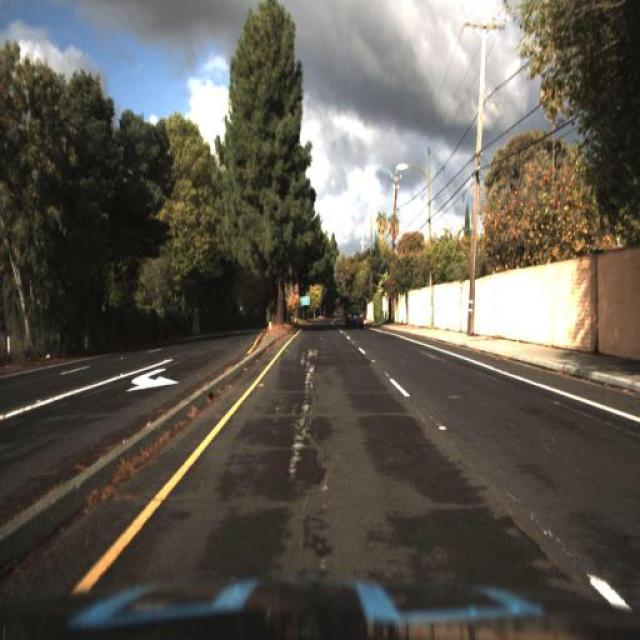car: (346, 302, 365, 330)
